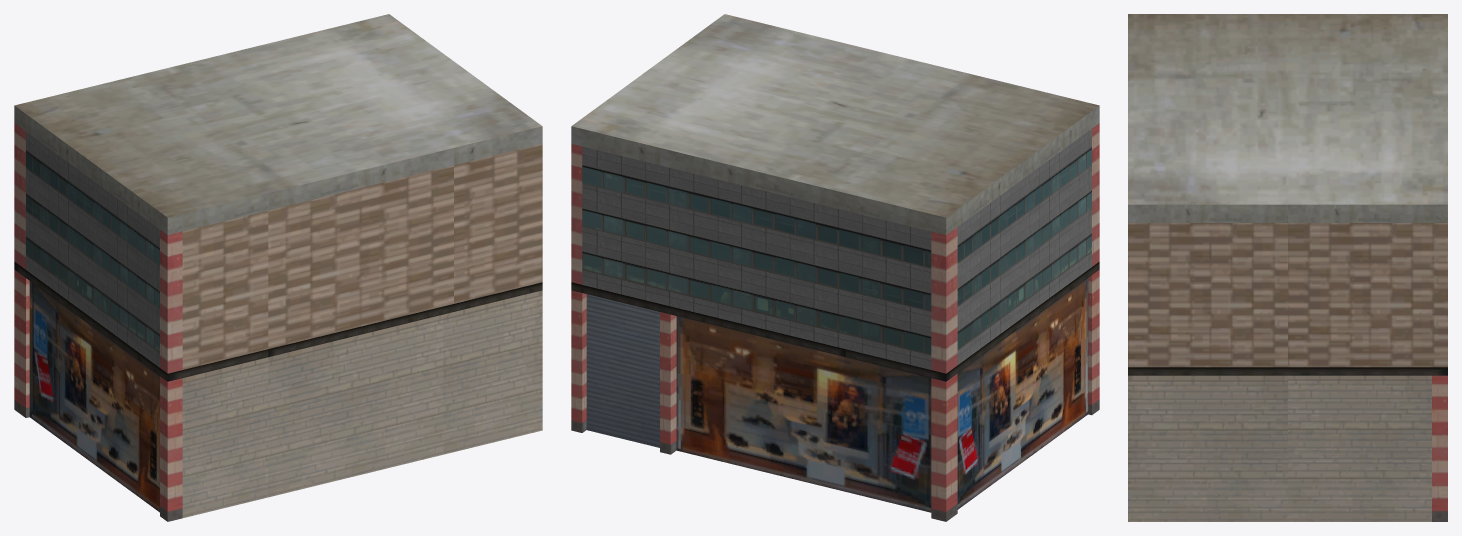
The model's file is Pizza_Delivery house32.fbx.
3 views of the same model, side by side, from view 1: azimuth 30°, elevation 25°; view 2: azimuth 150°, elevation 25°; view 3: azimuth 270°, elevation 25° (orthographic). The views are drawn at different scales.
Visible parts, largest first — view 1: Pizza_Delivery:Pizza_Delivery:house32; view 2: Pizza_Delivery:Pizza_Delivery:house32; view 3: Pizza_Delivery:Pizza_Delivery:house32.
Boxes of the visible parts, box(x1,y1,x2,y2) form: Pizza_Delivery:Pizza_Delivery:house32: box(14, 14, 542, 521); Pizza_Delivery:Pizza_Delivery:house32: box(571, 14, 1099, 521); Pizza_Delivery:Pizza_Delivery:house32: box(1128, 14, 1447, 521).
Bounding box in the file's own units: 12.7 × 9.85 × 9.
